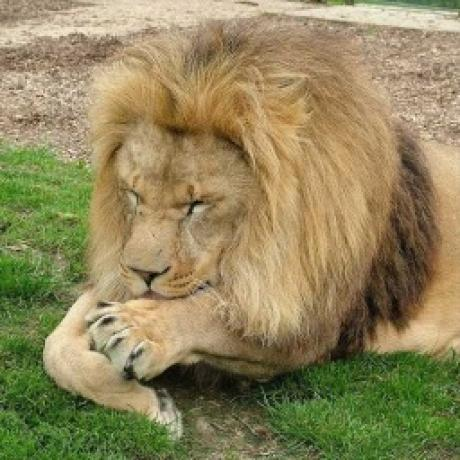Lion: (46, 15, 460, 425)
